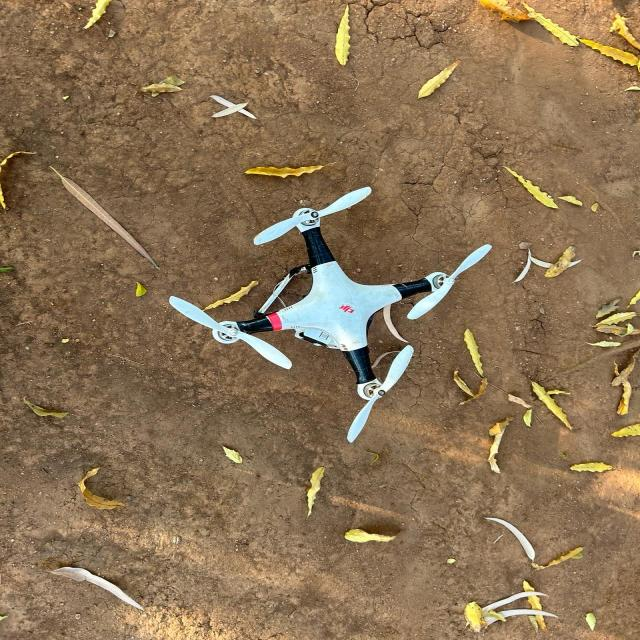drone: (172, 205, 468, 409)
